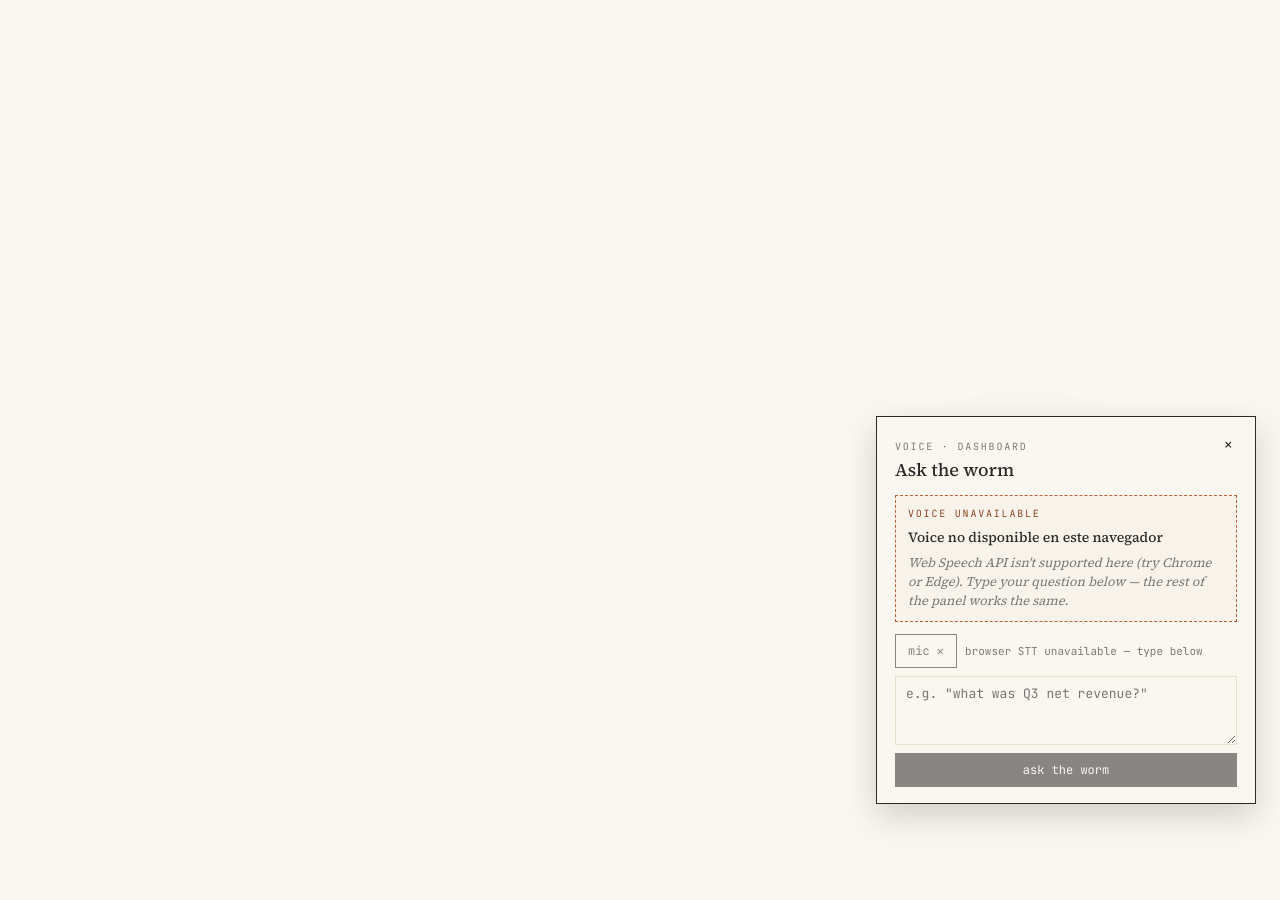
Test: VoicePanel — service unavailable › renders the honest 503 banner with retry when the proxy errors
Note: Type into the textarea (Firefox-style flow).
Type "what's our churn?" into the text box with test id "voice-transcript". click: (1066,710)
box: [895, 676, 1237, 745]
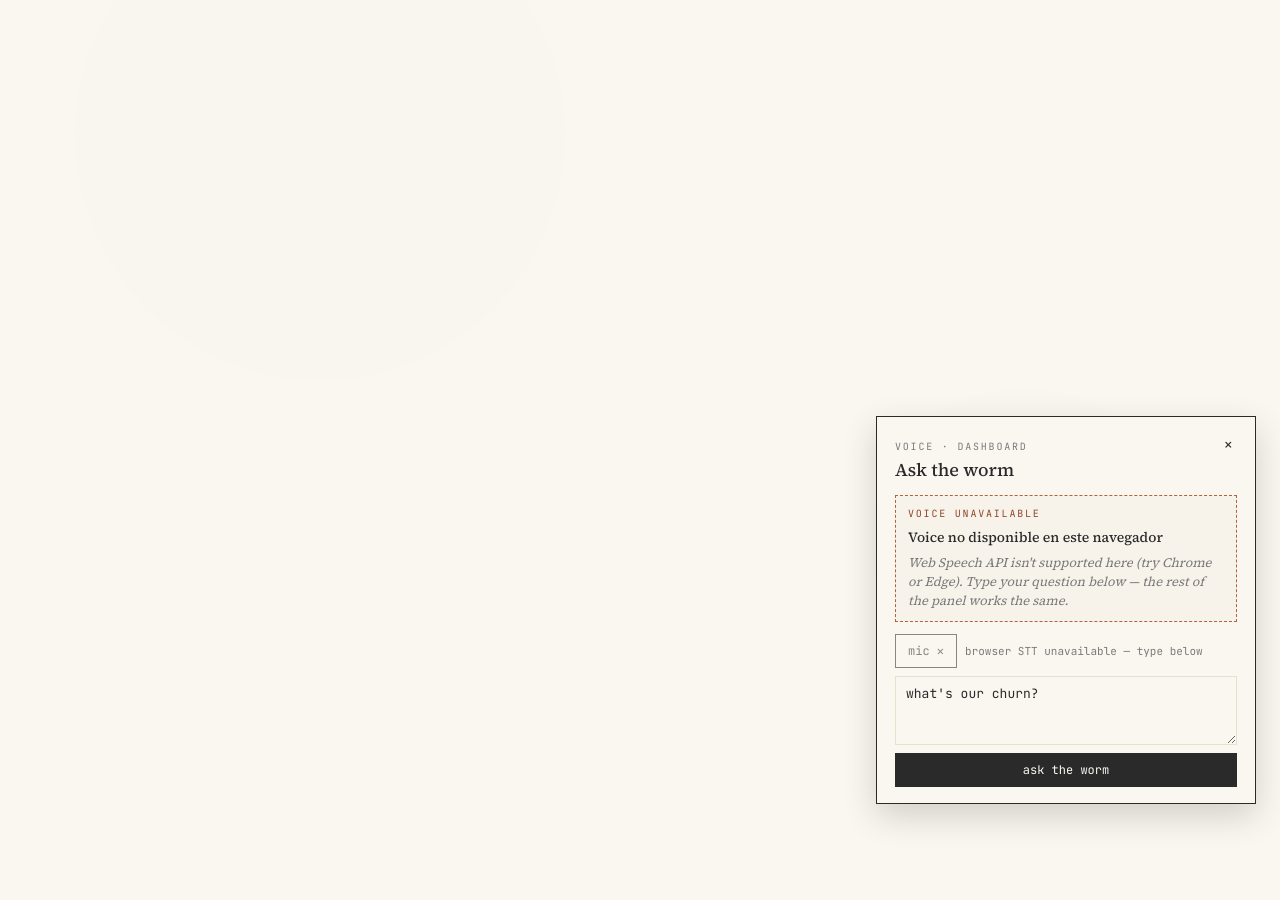
Click the button with test id "voice-submit". click: (1066,770)
box: [895, 753, 1237, 787]
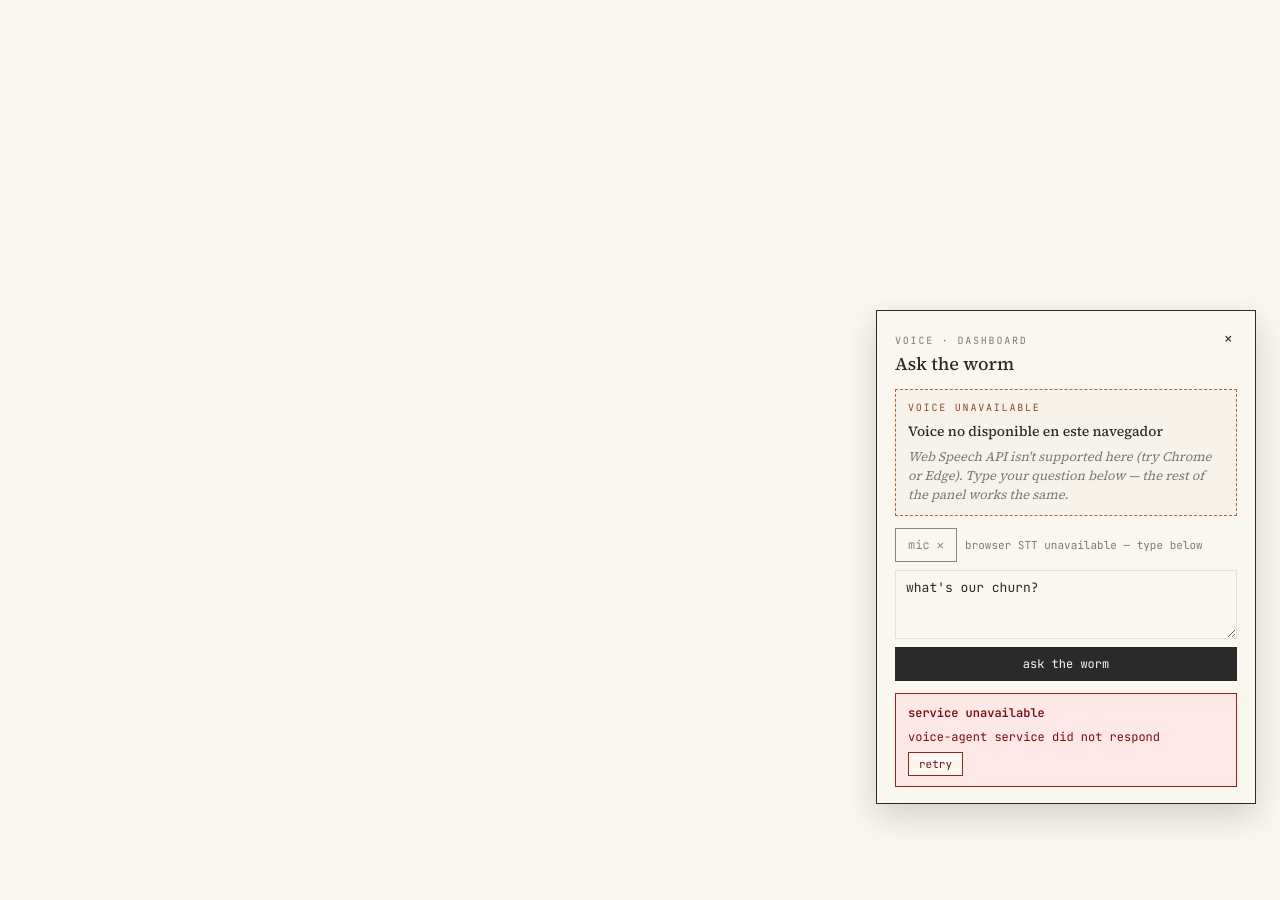
Expected: the element with test id "voice-error" is shown, [895, 693, 1237, 787]
Expected: the element with test id "voice-error" shows "service unavailable", [908, 705, 1045, 721]
Expected: the element with test id "voice-error" shows "voice-agent service did not respond", [908, 729, 1160, 745]
Note: Retry resets to idle so the user can ask again.
Click the button with test id "voice-retry". click: (936,764)
box: [908, 752, 963, 776]
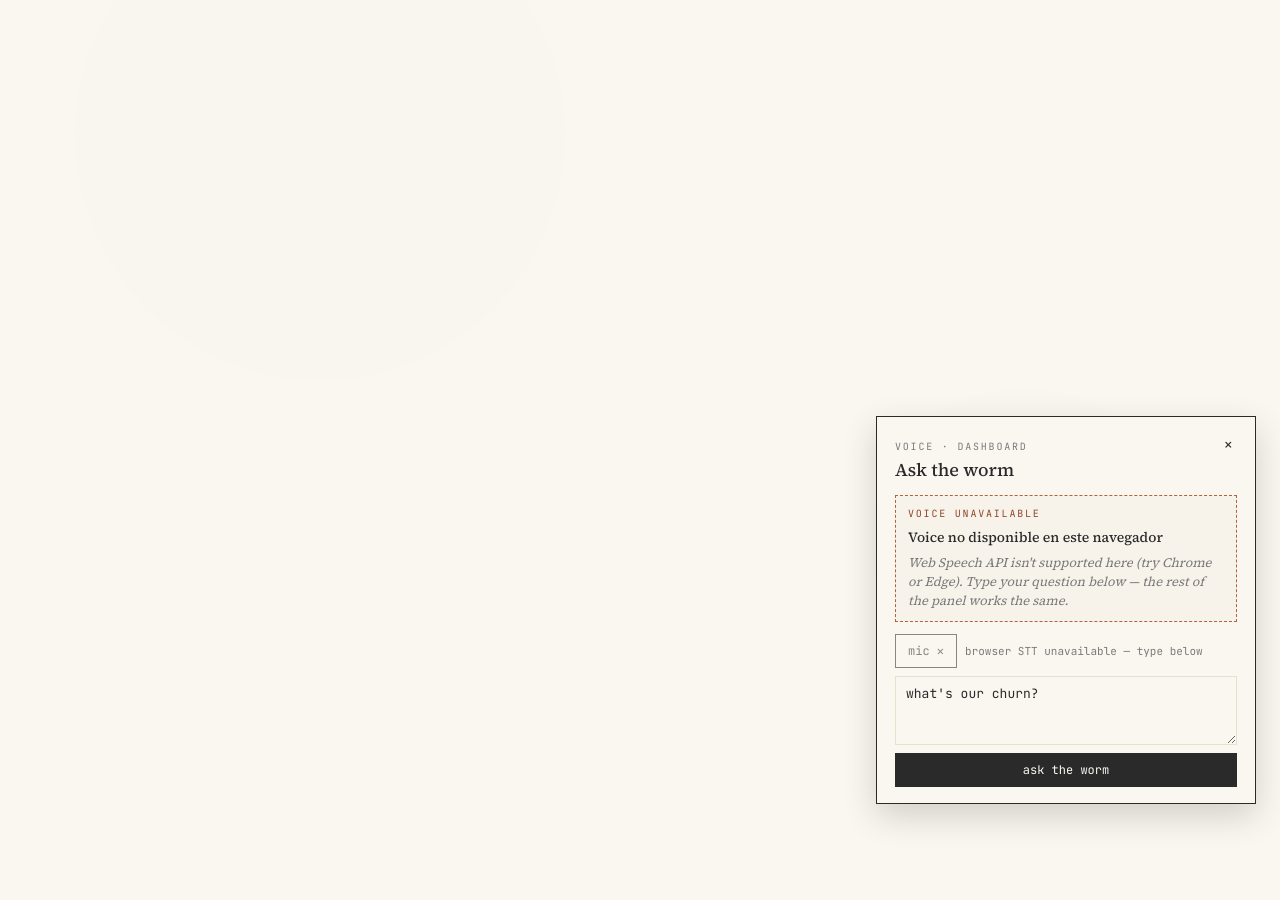
Expected: the element with test id "voice-error" is gone
